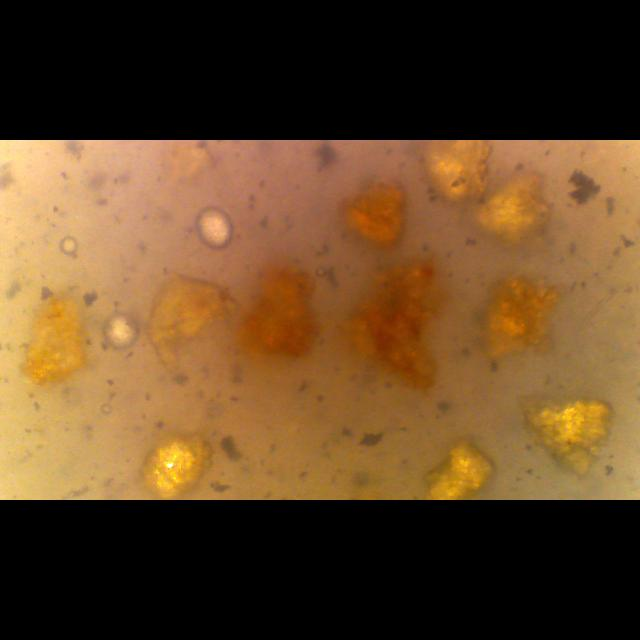Fragment: (346, 244, 458, 404), (146, 265, 238, 383), (470, 276, 568, 372), (518, 392, 620, 484), (466, 164, 556, 256), (244, 257, 322, 357), (15, 288, 91, 388), (134, 430, 218, 500), (336, 173, 412, 249), (414, 140, 492, 214), (419, 434, 503, 500), (562, 166, 606, 218)
microbeads: (97, 304, 147, 354), (192, 202, 240, 248), (55, 234, 81, 260)
